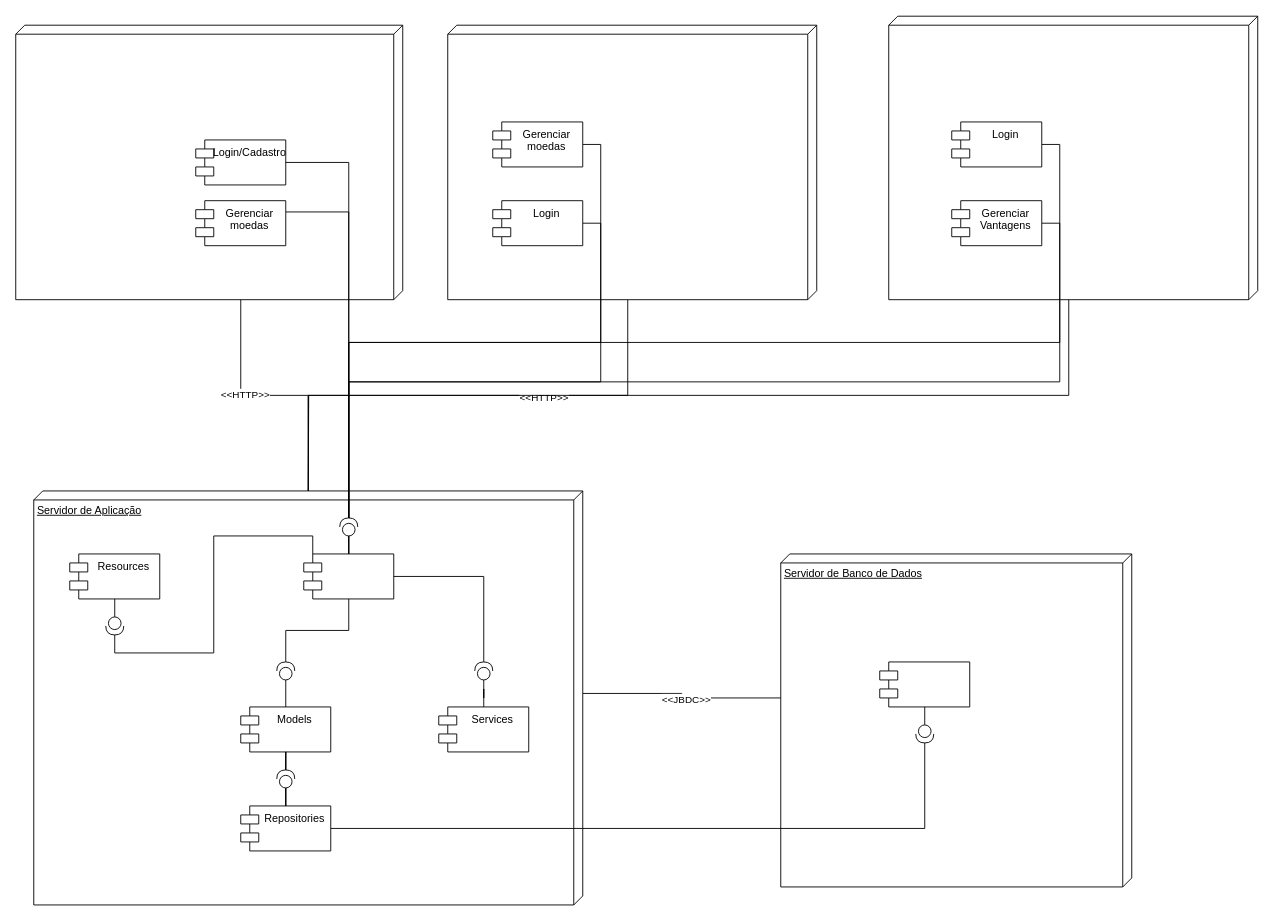
This 1274x921 diagram has some shape labels left out. Here are the shapes that lost their labels. From the top down, the box of each, then its label:
(15, 24, 403, 300): Aluno:Browser
(447, 24, 817, 300): Professor:Browser
(888, 15, 1258, 300): Parceiros:Browser
(303, 553, 394, 599): Controllers
(879, 661, 970, 707): SGBD
